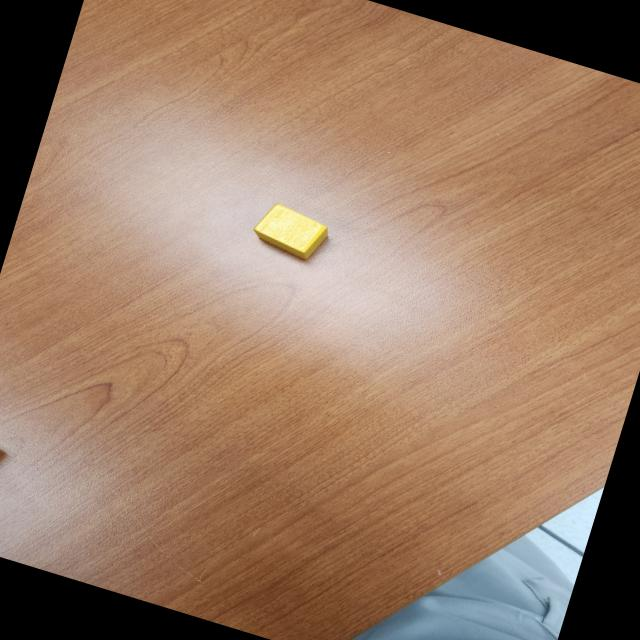yellow: (247, 198, 333, 264)
